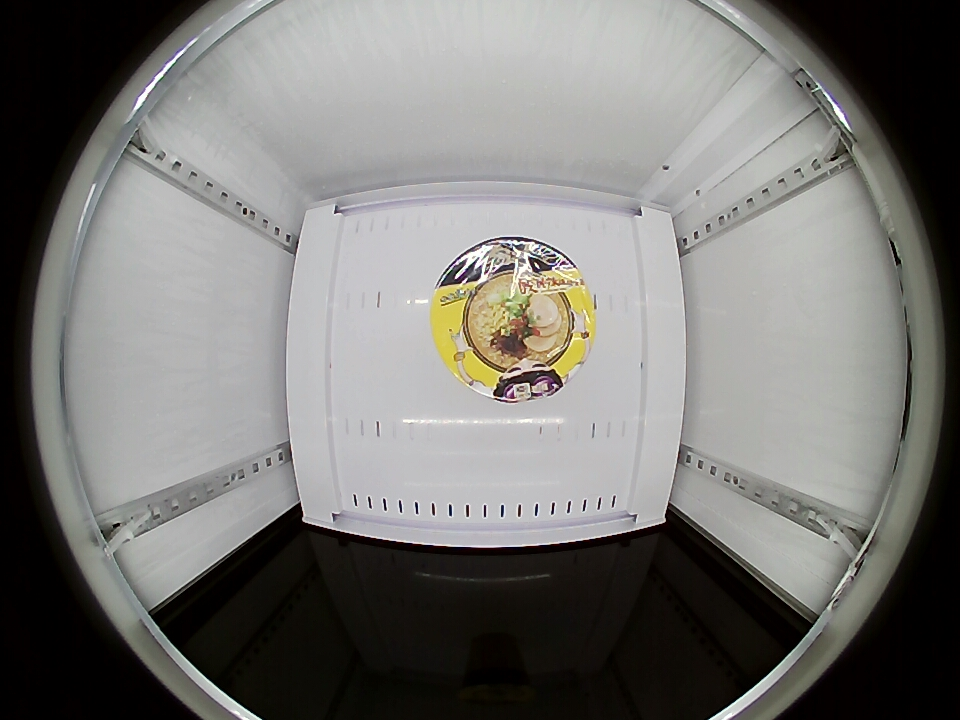tangdaren2: (431, 237, 595, 402)
